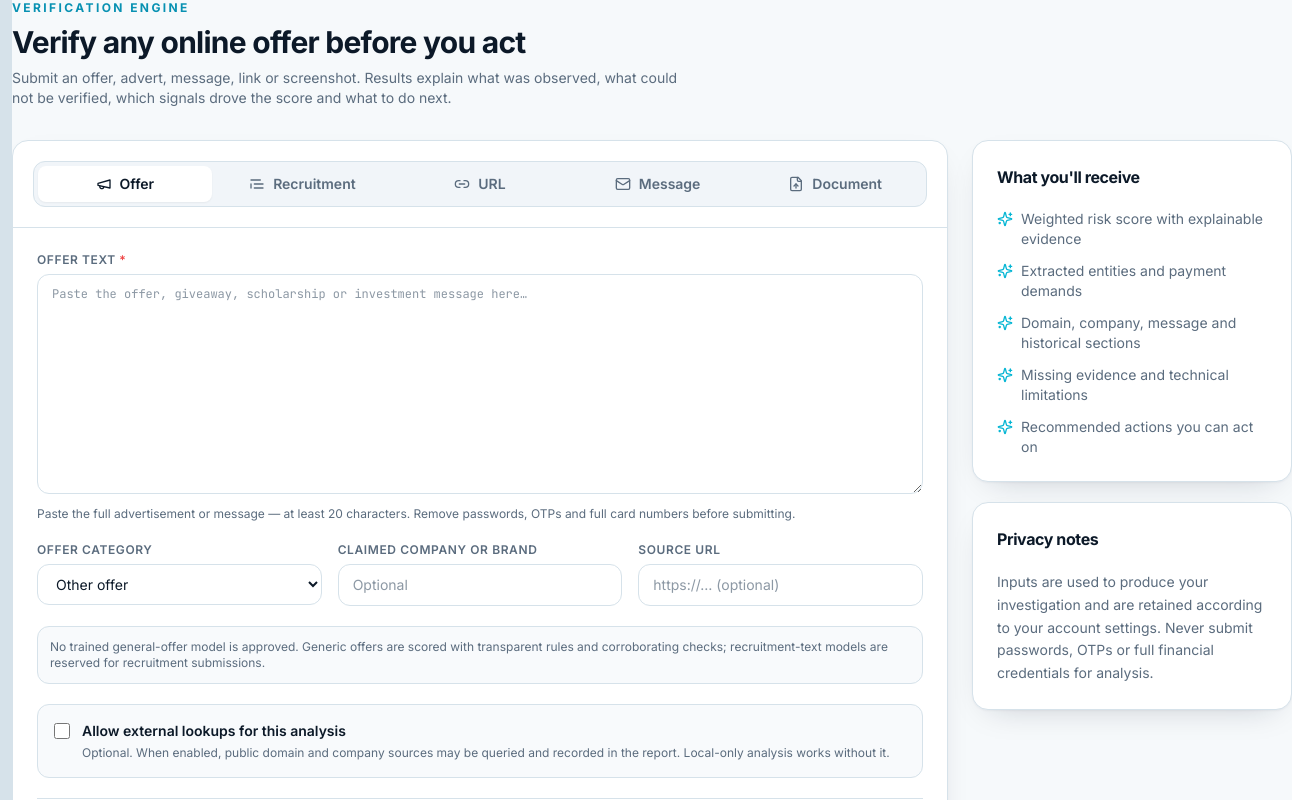
Test: analysis workflow › blocks submission when the recruitment text is too short
Step 1. Click the tab "Recruitment" → (302, 184), box [216,166,389,202]
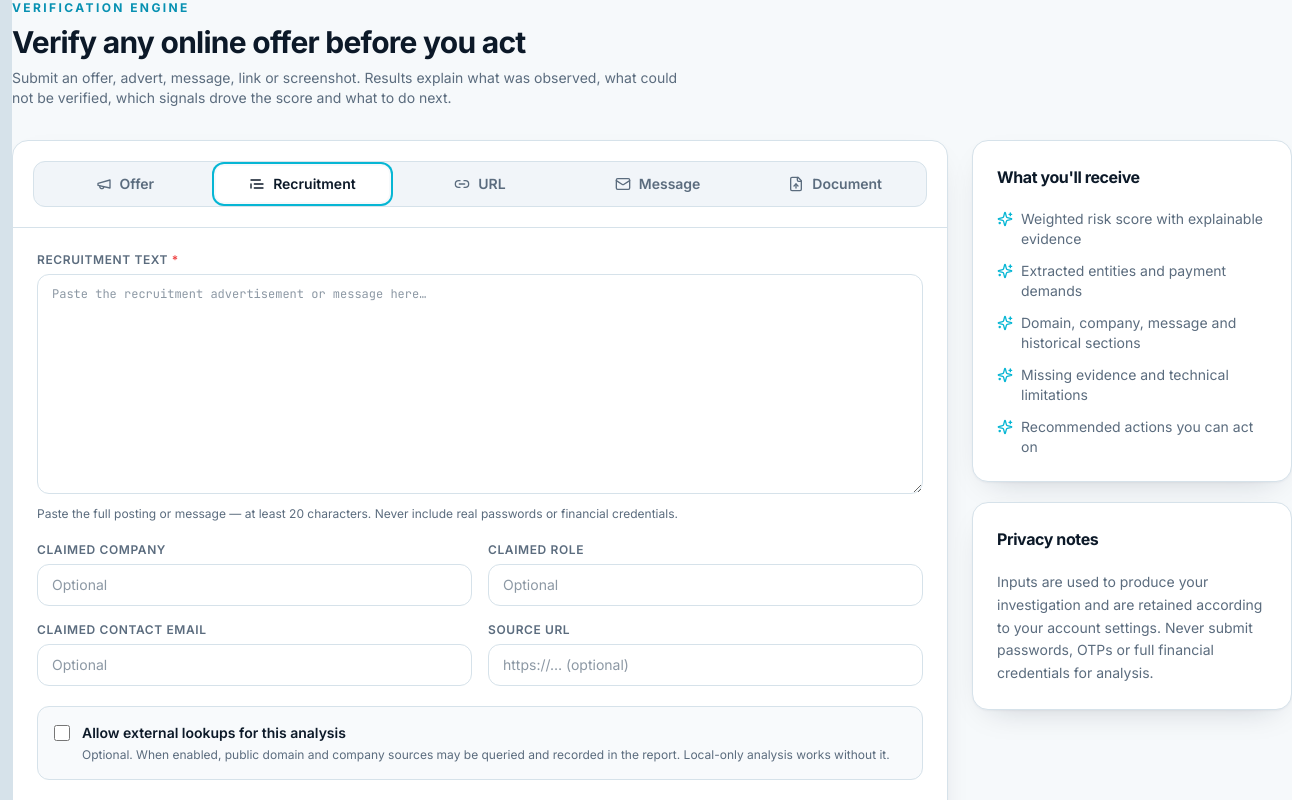
Step 2. Type "short post" into the text box labelled "Recruitment text *" → (480, 384), box [37,274,923,494]
(page scrolled)
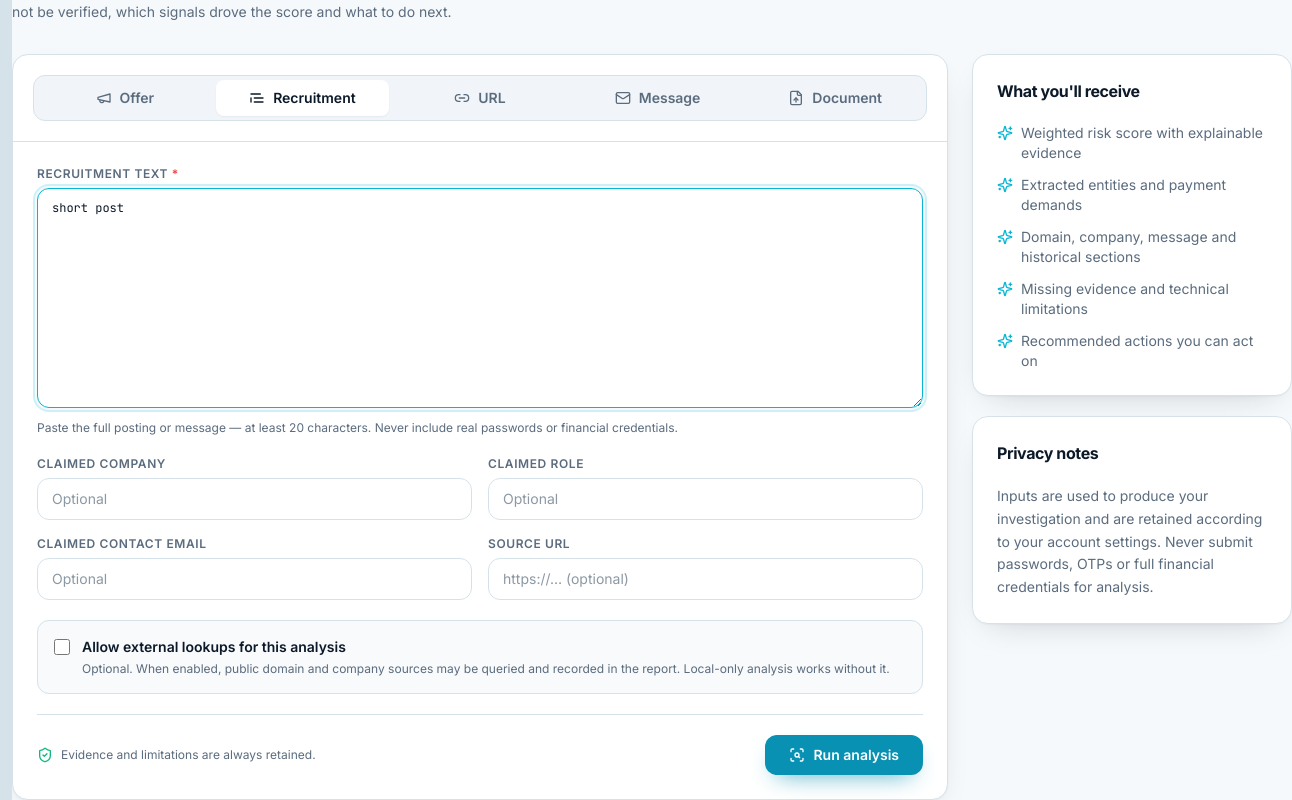
Step 3. Click the button "Run analysis" → (844, 755), box [766,735,923,775]
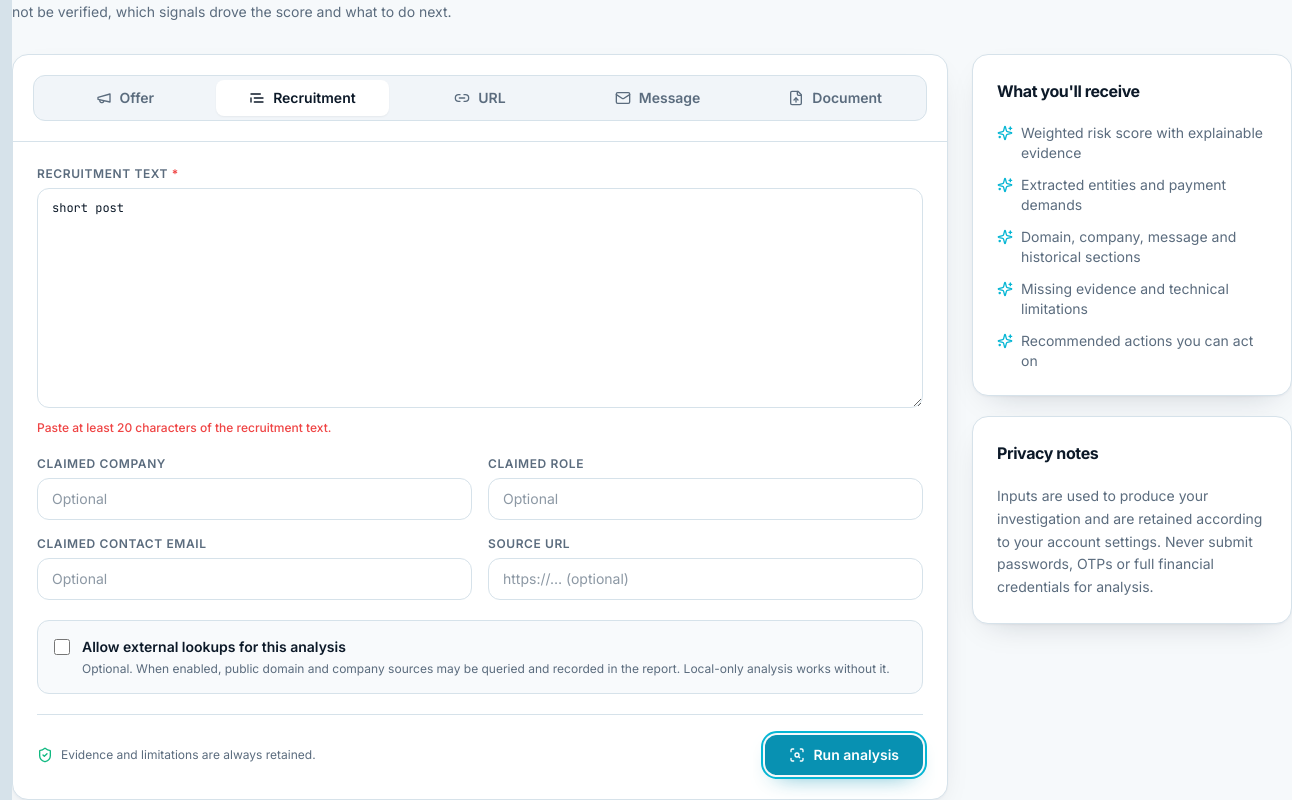
Expected: the text "Paste at least 20 characters of the recruitment text." is shown, [37,420,331,435]
